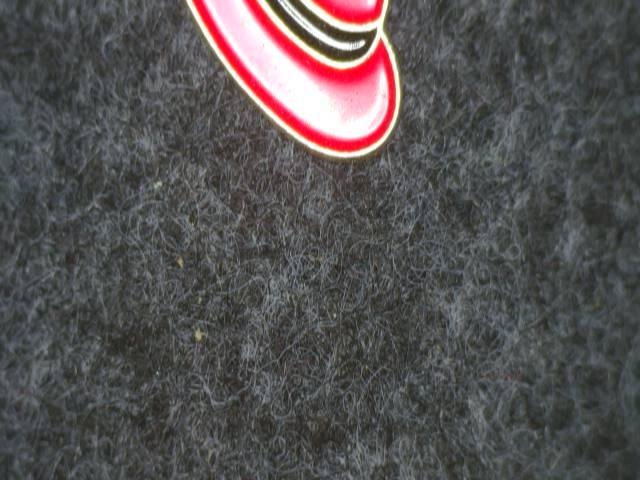Red-Hat: (167, 0, 424, 200)
